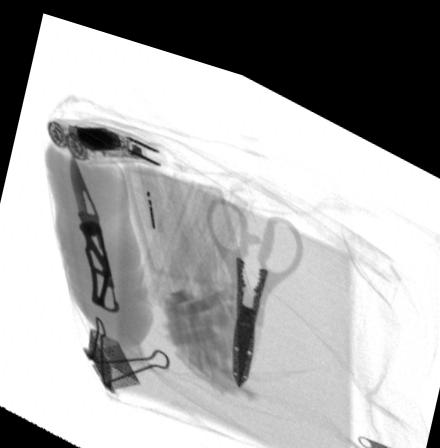Knife: (69, 146, 120, 305)
Scissors: (205, 183, 302, 373)
